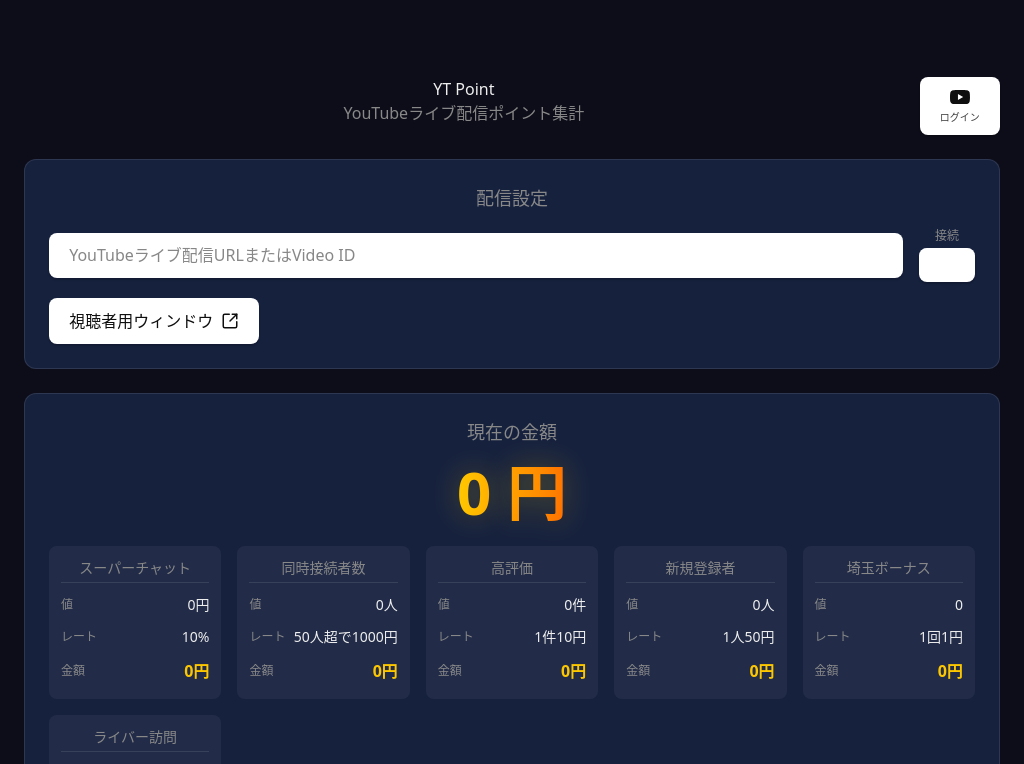
App › video URL input › is disabled when monitoring
The width and height of the screenshot is (1024, 764).
Type "test-video-id" into the field with placeholder "YouTubeライブ配信URLまたはVideo ID" at (476, 255), box [49, 233, 903, 278]
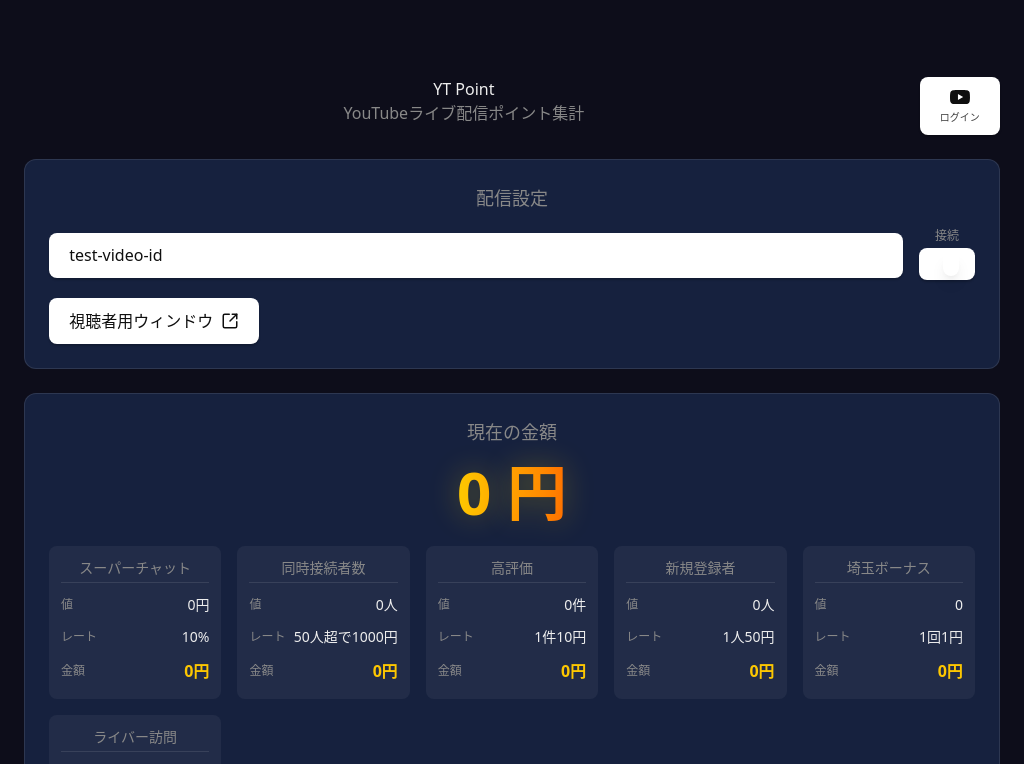
Click the switch at (947, 264), box [919, 248, 975, 280]
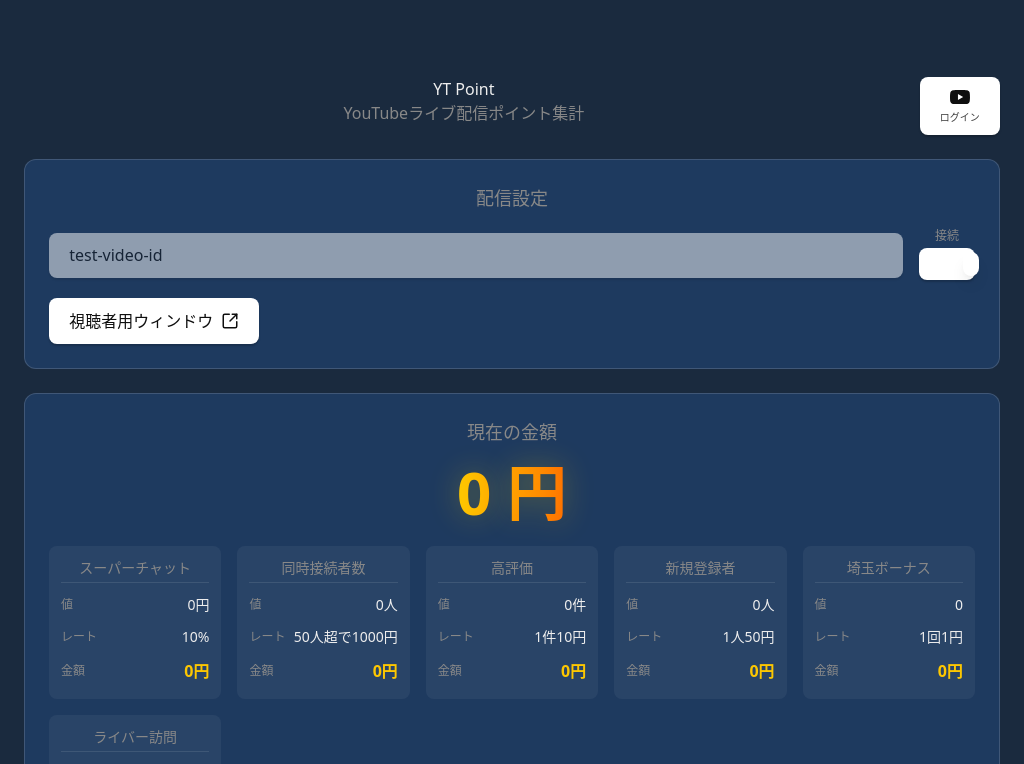
Expected: the field with placeholder "YouTubeライブ配信URLまたはVideo ID" is disabled, [49, 233, 903, 278]
